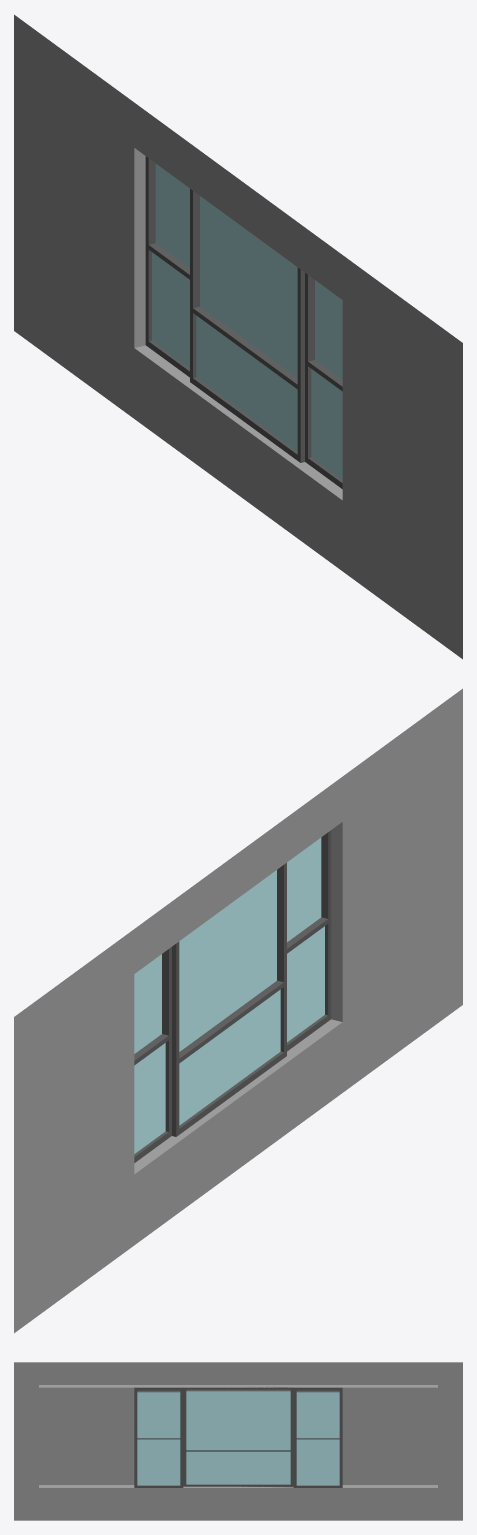
Rendered from LargeWindowSide.fbx.
The picture shows the model from 3 angles, top to bottom: view 1: azimuth 30°, elevation 25°; view 2: azimuth 150°, elevation 25°; view 3: azimuth 270°, elevation 25°; orthographic projection. The views are drawn at different scales.
Parts seen in each view (by area): view 1: LargeWindowSide; view 2: LargeWindowSide; view 3: LargeWindowSide.
Boxes of the visible parts, <box> form: LargeWindowSide: <box>14,14,462,659</box>; LargeWindowSide: <box>14,688,462,1333</box>; LargeWindowSide: <box>14,1362,462,1520</box>.
Bounding box in the file's own units: 21.07 × 350 × 900.
